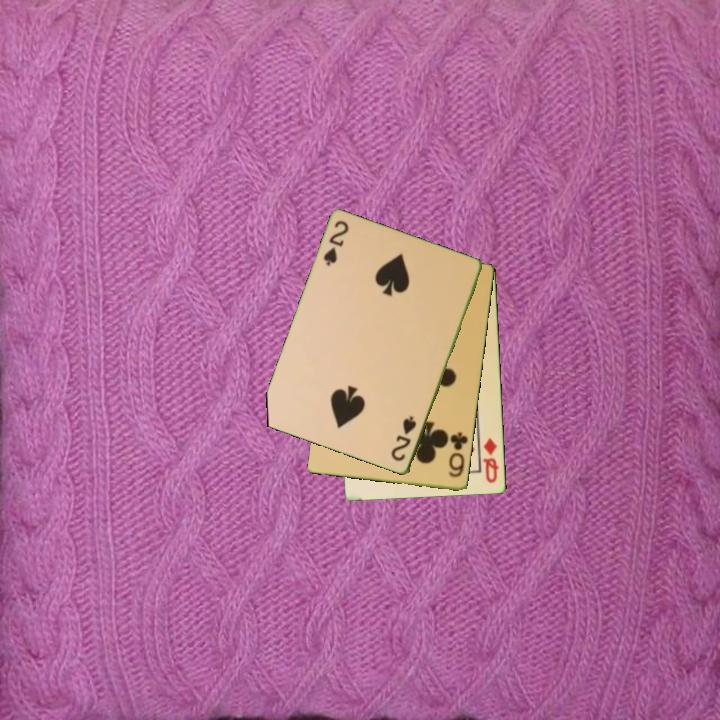2s: (388, 413, 420, 465), (320, 217, 352, 269)
6c: (445, 429, 471, 480)
Qd: (480, 435, 502, 486)
